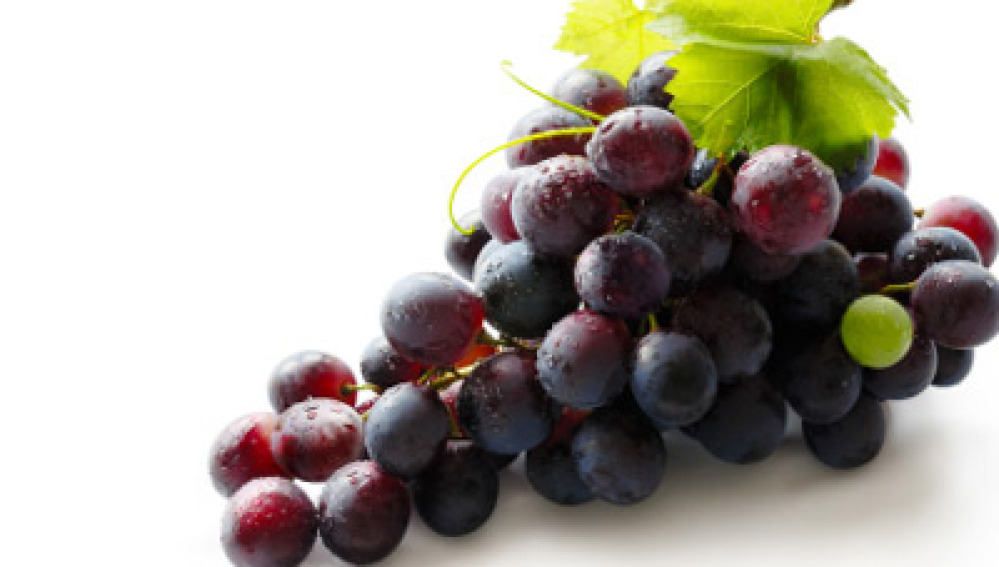Red Grapes: (162, 58, 998, 563)
